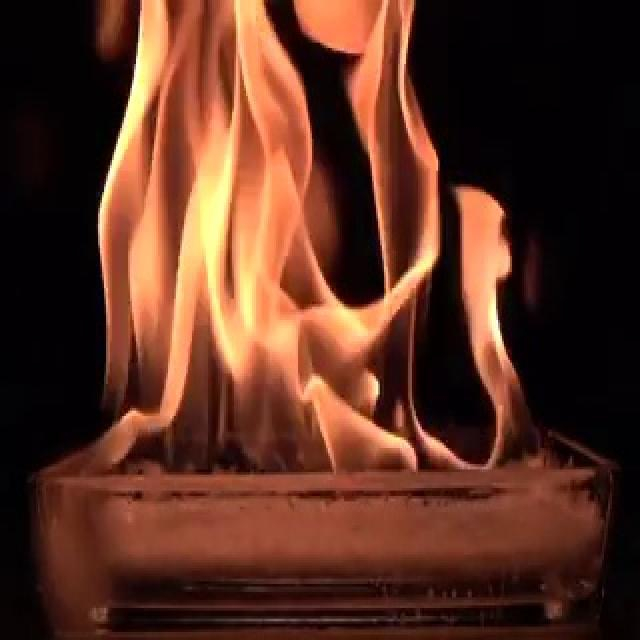Fire: (88, 2, 537, 475)
